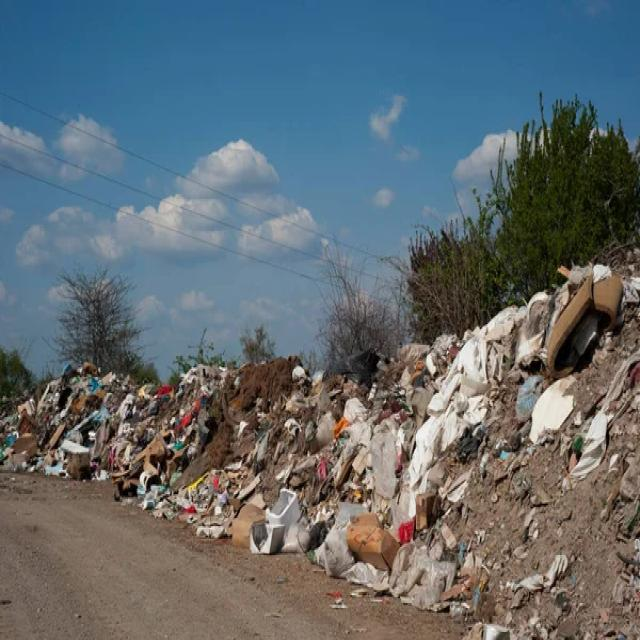garbage: (49, 321, 640, 597)
